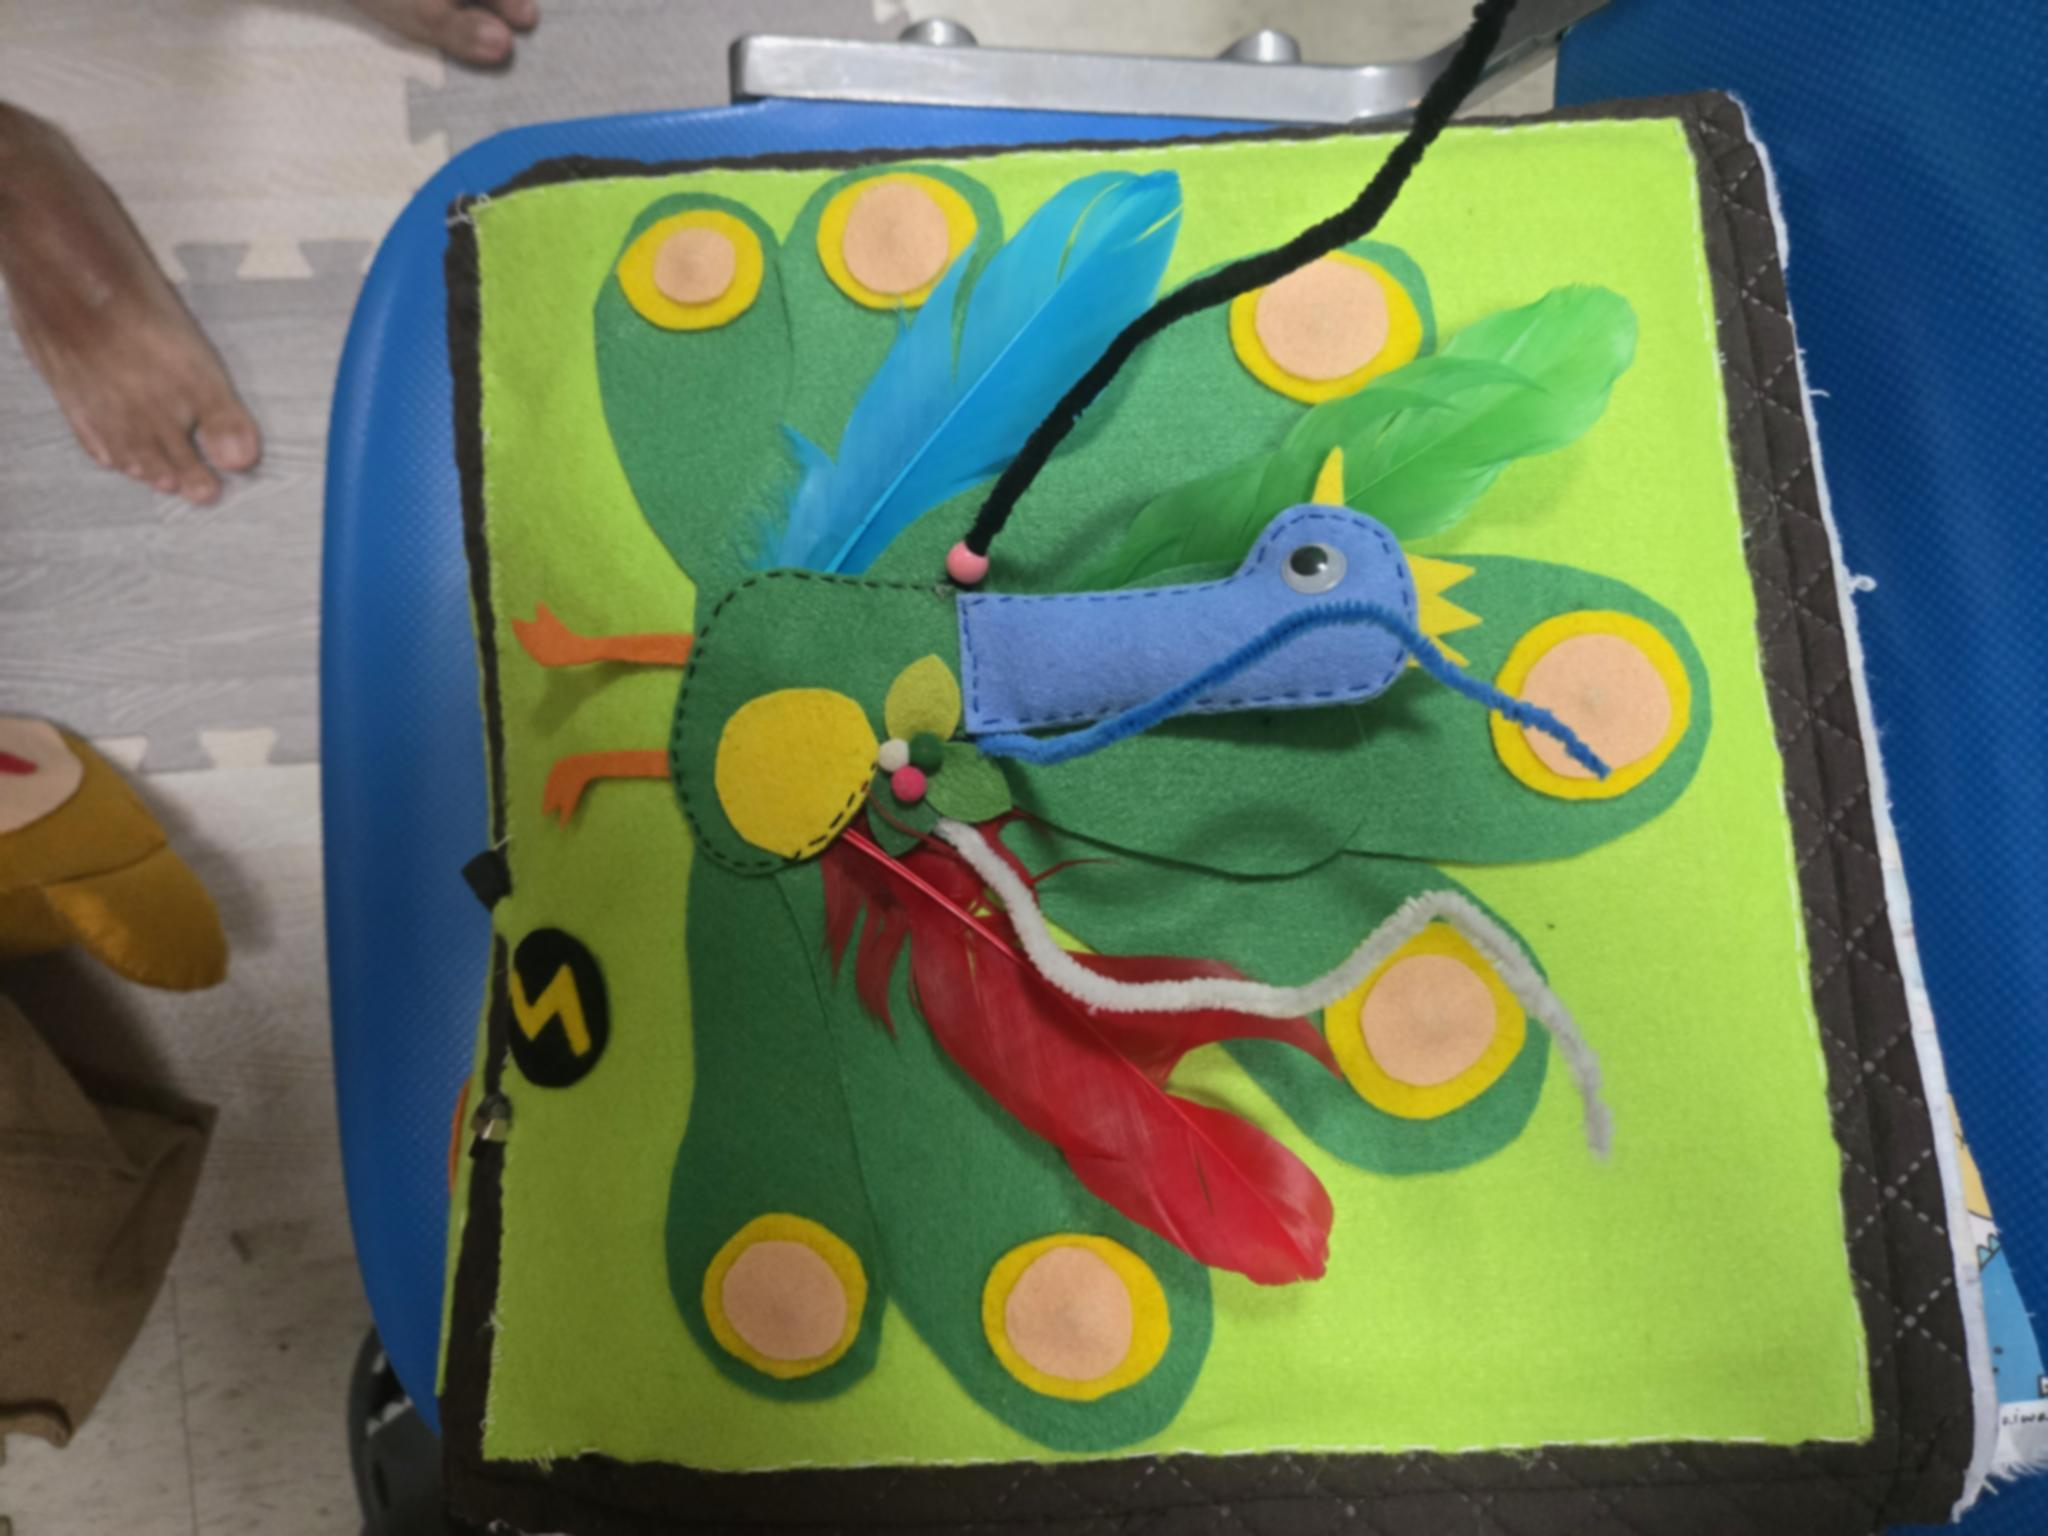bead: (937, 529, 1006, 605)
